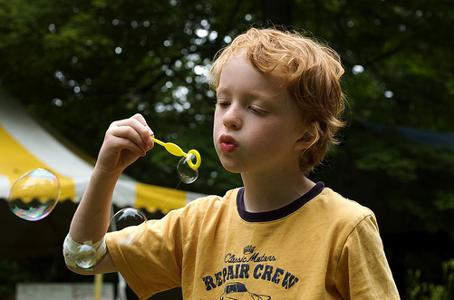person: (66, 27, 398, 300)
